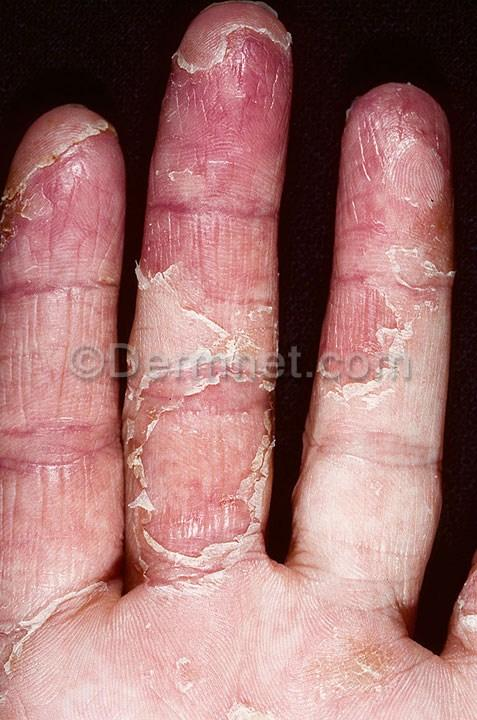Eczema: (133, 216, 287, 371), (137, 403, 260, 592), (158, 76, 280, 218), (7, 436, 118, 591), (20, 159, 112, 345), (345, 242, 454, 394), (295, 599, 412, 720), (358, 97, 449, 220)
